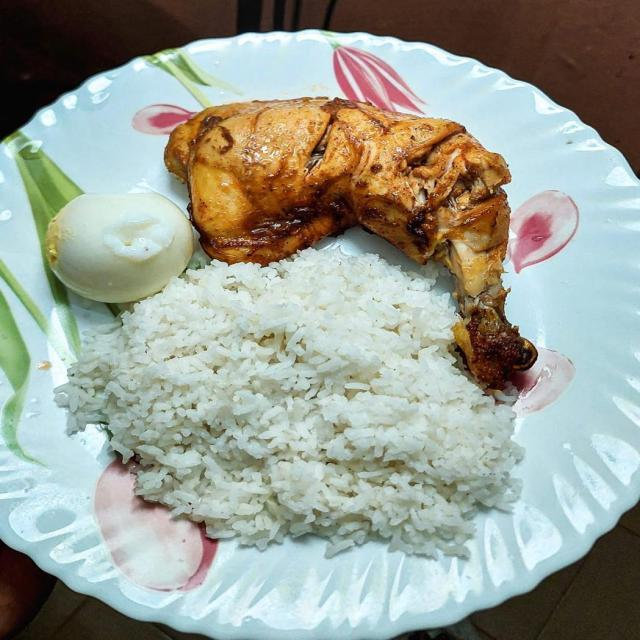Chicken: (162, 100, 537, 383)
Egg: (41, 191, 197, 302)
Plate: (0, 35, 639, 639)
Rice: (51, 251, 525, 568)
